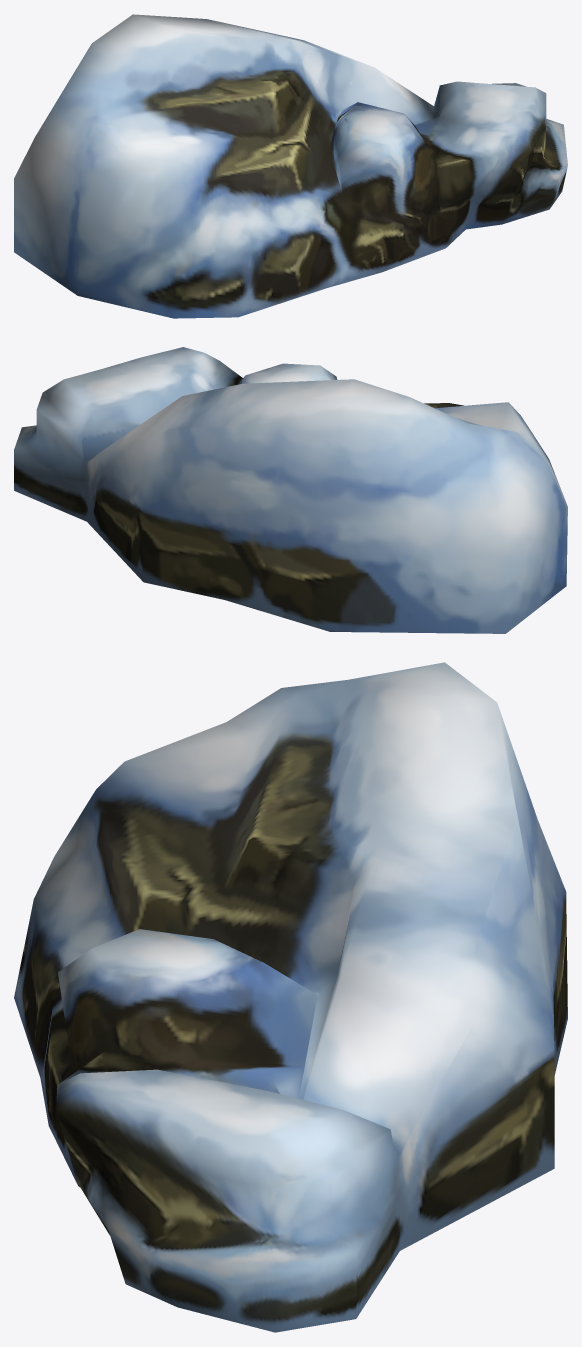
Rendered from ShiTou06.FBX.
3 views of the same model, one above another, from view 1: azimuth 30°, elevation 25°; view 2: azimuth 150°, elevation 25°; view 3: azimuth 270°, elevation 25° (orthographic). The views are drawn at different scales.
Parts seen in each view (by area): view 1: ShiTou06; view 2: ShiTou06; view 3: ShiTou06.
Part boxes in pixels (box(x1,y1,x2,y2)): ShiTou06: box(14, 14, 567, 318); ShiTou06: box(14, 347, 567, 633); ShiTou06: box(14, 662, 567, 1332).
Bounding box in the file's own units: 341 × 123 × 190.
